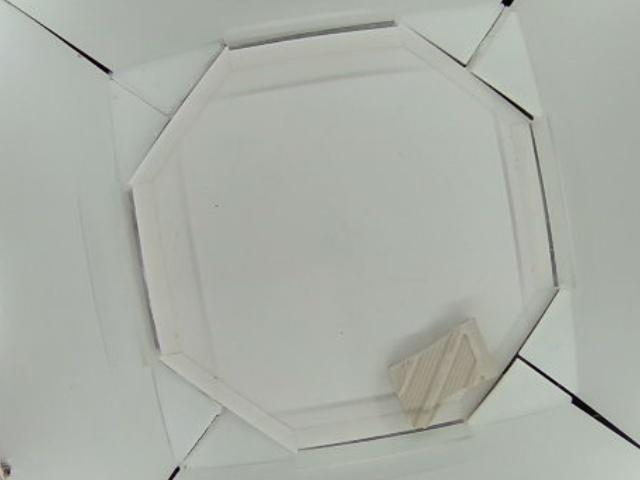China: (394, 318, 498, 430)
